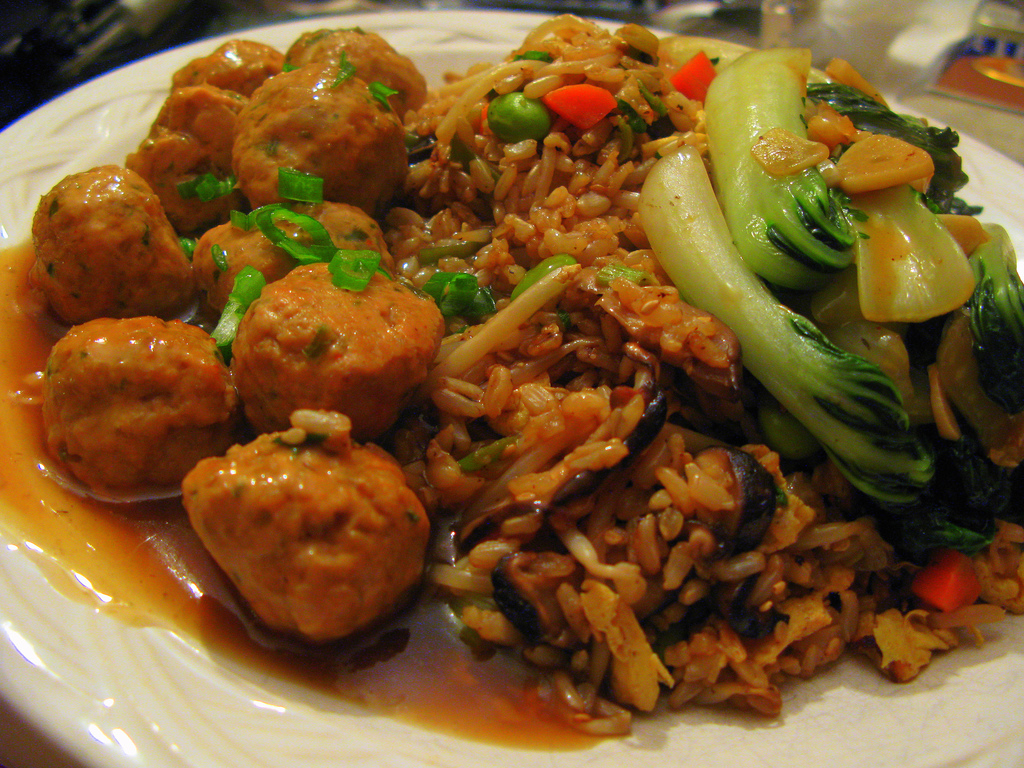chopped lettuce: (704, 58, 909, 461)
meatballs: (75, 184, 388, 389)
